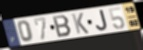0: (17, 20, 35, 43)
5: (108, 6, 126, 30)
7: (33, 16, 48, 41)
B: (52, 14, 73, 38)
J: (95, 9, 109, 32)
K: (71, 12, 90, 35)
